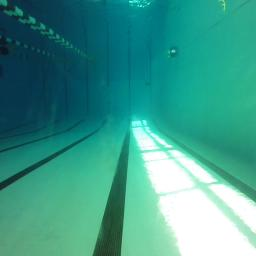Full: (146, 82, 152, 85)
front: (167, 46, 179, 58)
